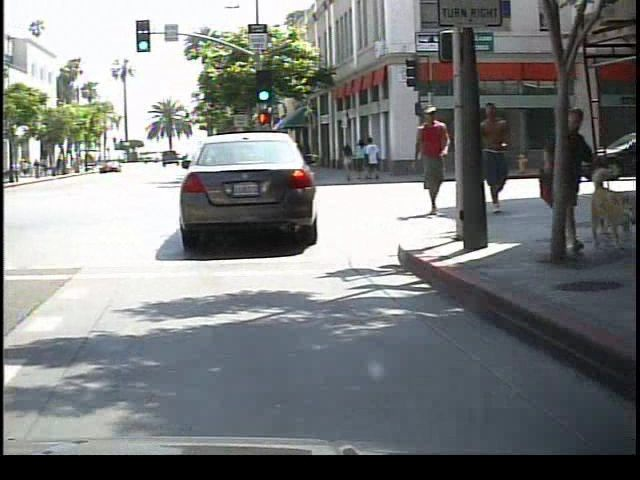person: (407, 100, 452, 223), (476, 98, 518, 221)
